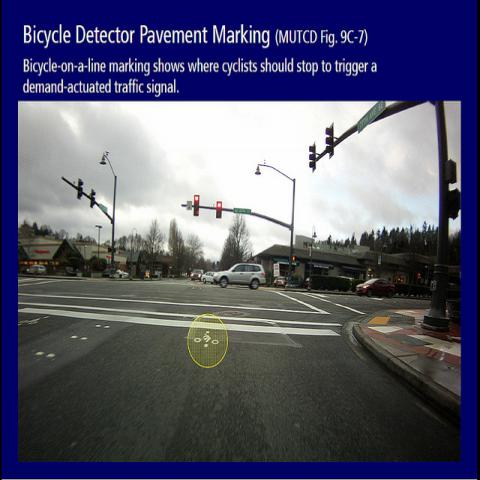car: (213, 262, 267, 289), (356, 277, 396, 298), (27, 264, 47, 276), (201, 271, 217, 284), (304, 278, 319, 289), (191, 269, 202, 282), (116, 271, 130, 278), (277, 276, 284, 285), (102, 271, 111, 276)
